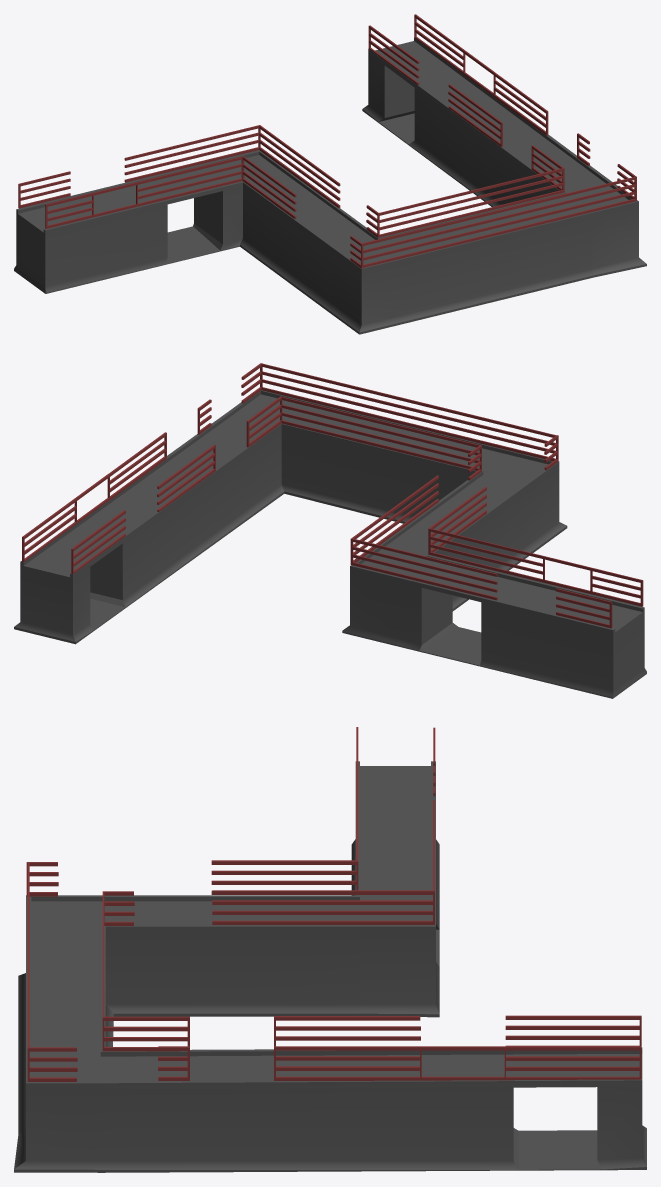
Rendered from Level2_conveyor foundation.fbx.
3 views of the same model, one above another, from view 1: azimuth 30°, elevation 25°; view 2: azimuth 150°, elevation 25°; view 3: azimuth 270°, elevation 25° (orthographic). The views are drawn at different scales.
Parts seen in each view (by area): view 1: pCube75, polySurface111, polySurface112, polySurface108, polySurface114, polySurface102, polySurface103, polySurface104, polySurface113, polySurface88, polySurface116, polySurface115 (+1 smaller); view 2: pCube75, polySurface111, polySurface112, polySurface108, polySurface114, polySurface102, polySurface103, polySurface104, polySurface113, polySurface88, polySurface116, polySurface115 (+1 smaller); view 3: pCube75, polySurface112, polySurface102, polySurface103, polySurface88, polySurface113, polySurface104, polySurface107, polySurface105, polySurface106, polySurface110, polySurface109.
Boxes of the visible parts, x1,y1,x2,y2 form: pCube75: (14,38,646,334); polySurface111: (361,177,635,267); polySurface112: (124,125,340,207); polySurface108: (378,168,564,237); polySurface114: (92,156,243,217); polySurface102: (414,14,495,96); polySurface103: (493,72,548,135); polySurface104: (448,84,502,146); polySurface113: (242,156,296,218); polySurface88: (368,25,419,84); polySurface116: (18,171,70,208); polySurface115: (45,193,92,228); pCube75: (14,390,646,698); polySurface111: (261,363,557,460); polySurface112: (350,475,497,600); polySurface108: (280,396,480,470); polySurface114: (430,528,592,594); polySurface102: (22,474,109,562); polySurface103: (108,432,166,499); polySurface104: (157,444,215,511); polySurface113: (428,487,486,554); polySurface88: (71,510,125,574); polySurface116: (556,588,612,628); polySurface115: (591,568,643,606); pCube75: (14,761,646,1172); polySurface112: (212,800,434,924); polySurface102: (420,1046,641,1080); polySurface103: (274,1046,419,1080); polySurface88: (505,1015,641,1046); polySurface113: (211,860,358,894); polySurface104: (274,1016,420,1046); polySurface107: (104,1016,189,1051); polySurface105: (27,1047,77,1081); polySurface106: (158,1046,189,1080); polySurface110: (26,862,58,896); polySurface109: (102,891,134,925).
Size of the model in its own units: 50.12 by 8.74 by 41.2.
